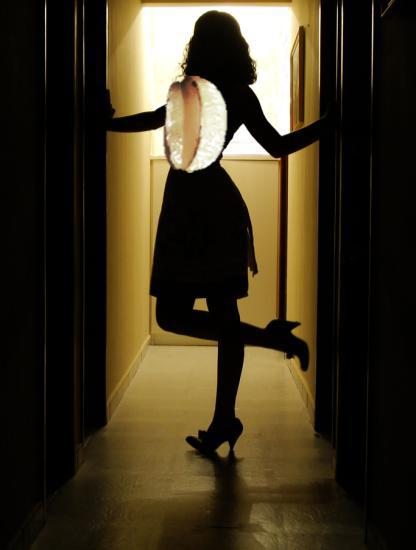Carambula: (147, 76, 244, 173)
